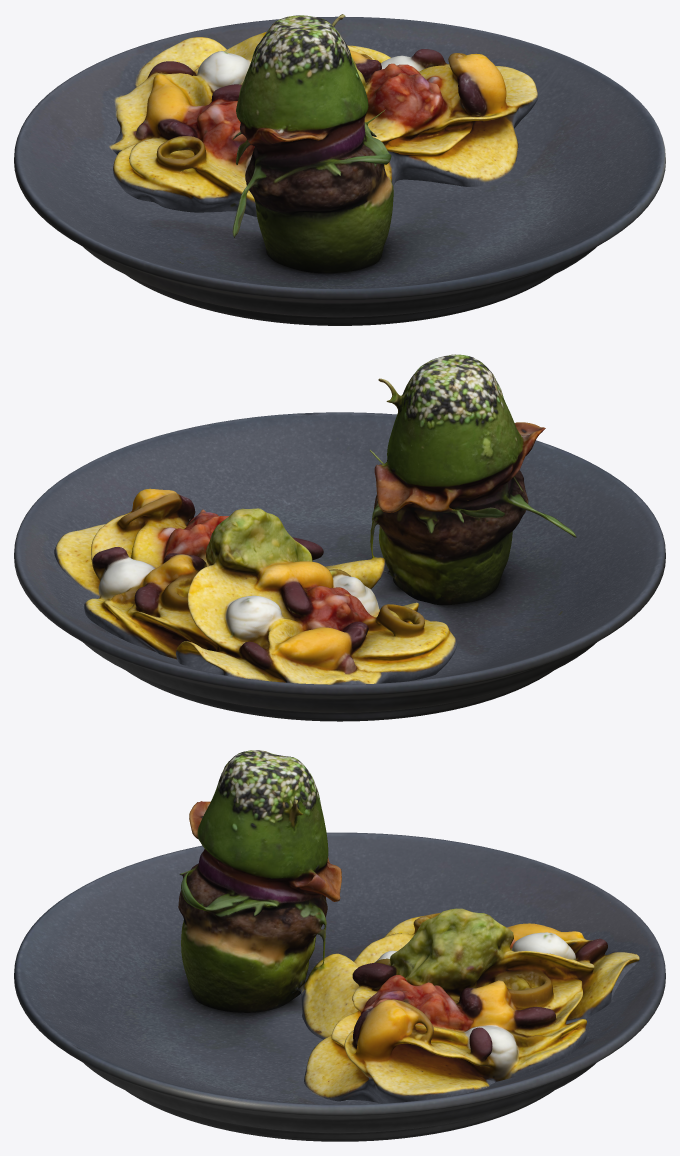
The model's file is Bun Burger.FBX.
3 renders of one model, top to bottom at view 1: azimuth 30°, elevation 25°; view 2: azimuth 150°, elevation 25°; view 3: azimuth 270°, elevation 25°, orthographic.
Parts seen in each view (by area): view 1: The_Bun_Burger; view 2: The_Bun_Burger; view 3: The_Bun_Burger.
Boxes of the visible parts, <box> form: The_Bun_Burger: <box>14,14,665,325</box>; The_Bun_Burger: <box>14,354,665,721</box>; The_Bun_Burger: <box>14,750,665,1141</box>.
Bounding box in the file's own units: 25.65 × 10.51 × 25.65.
Materials: 1 (1 with a texture image).
